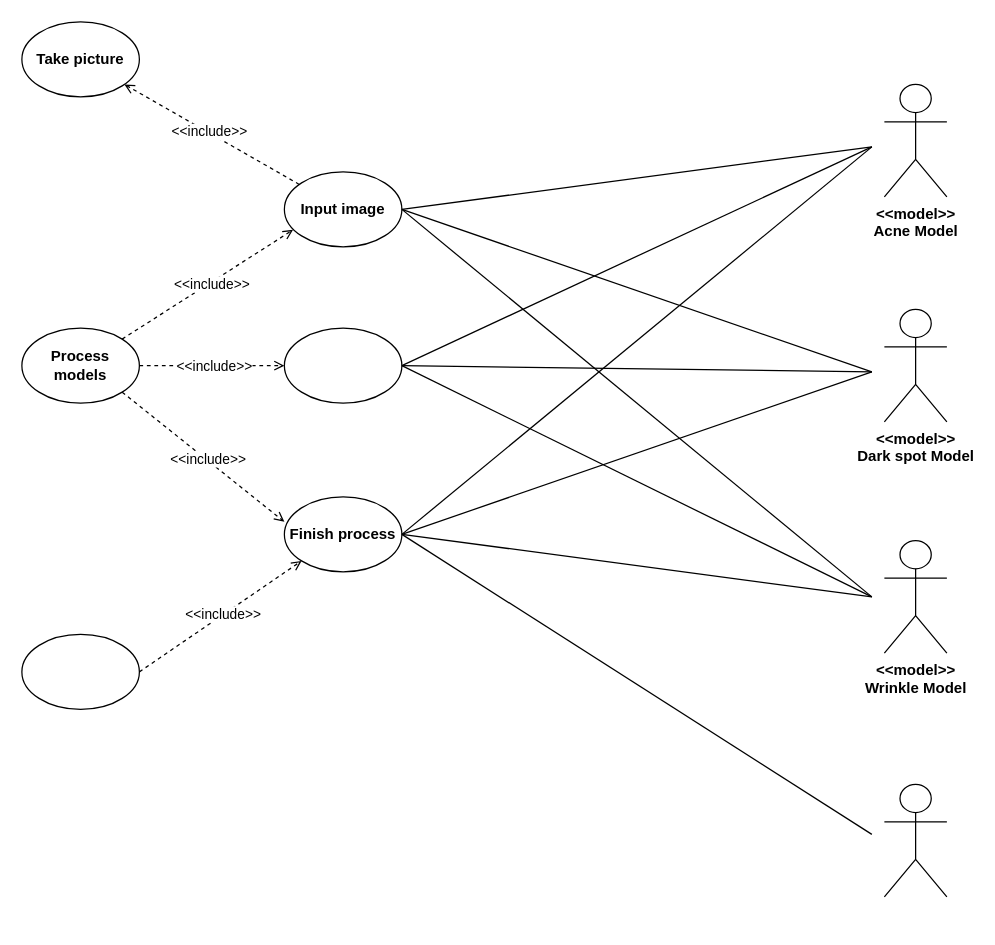
The diagram is 995 pixels wide and 945 high, and some of its shapes have lost their labels. Here are the shapes that lost their labels. From the top down, the box of each, then its label:
(283, 327, 402, 403): Show process
(21, 633, 139, 709): View log
(883, 783, 947, 897): Database
